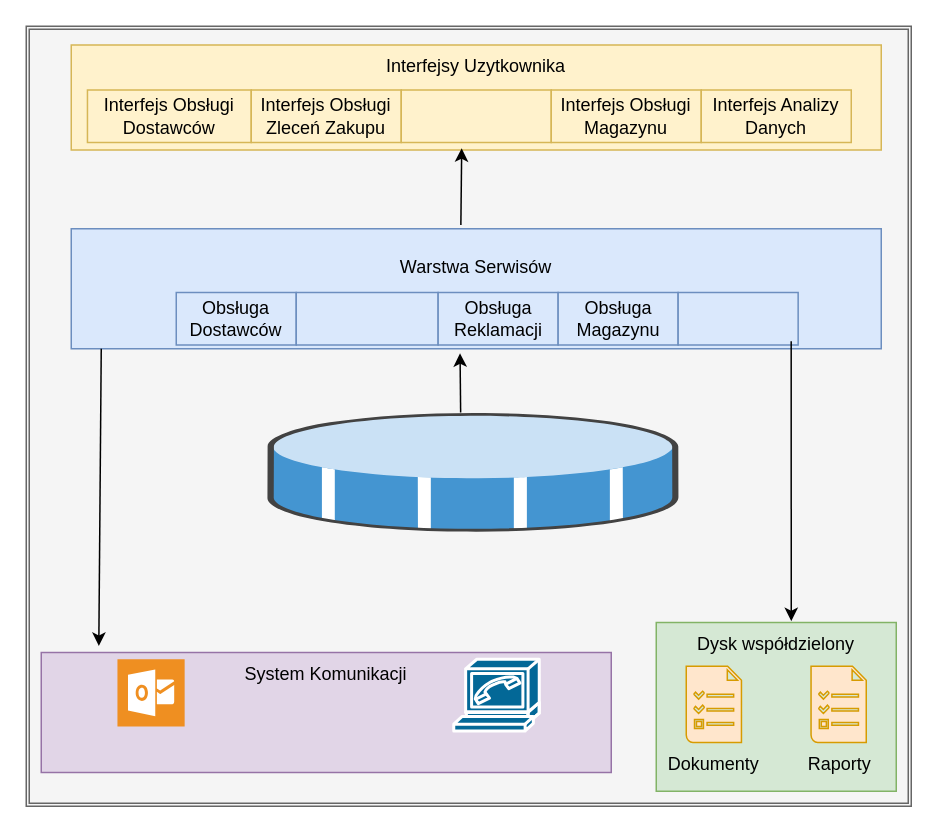
This 938x833 diagram has some shape labels left out. The shapes that lost their labels are listed below. From the top down, each one's centre as x and y in pixels, then its label:
At point (475, 115): "Interfejs Obsługi Reklamacji".
At point (366, 318): "Obsługa Zleceń Zakupu".
At point (737, 318): "Analiza Danych".
At point (472, 471): "Baza danych".
At point (150, 692): "Wysyłanie notyfikacji Email".
At point (496, 694): "Wysyłanie notyfikacji SMS".
